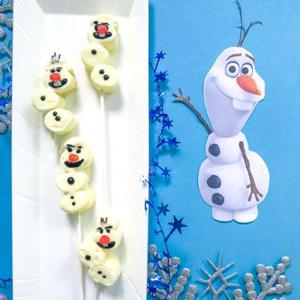olaf: (192, 10, 278, 222)
